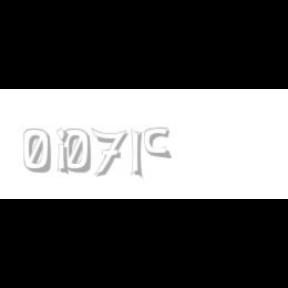0: (23, 128, 54, 174), (64, 128, 94, 174)
7: (92, 128, 128, 178)
c: (144, 128, 172, 160)
i: (56, 128, 72, 176)
l: (130, 128, 146, 180)
